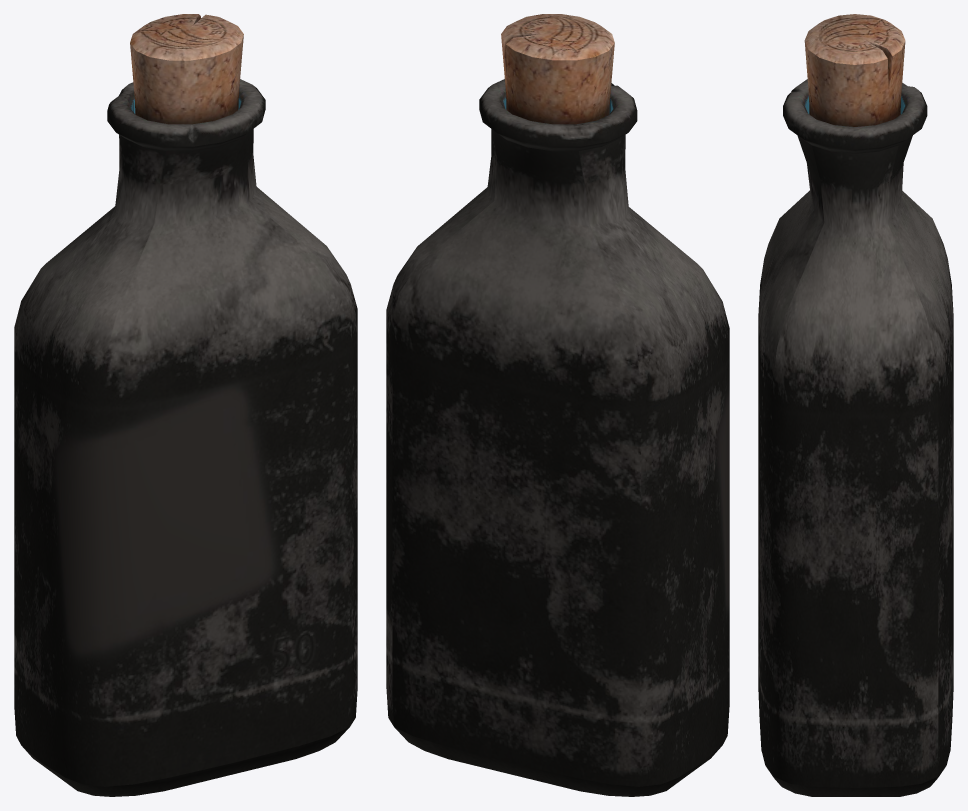
File: poison.fbx
3 renders of one model, left to right at view 1: azimuth 30°, elevation 25°; view 2: azimuth 150°, elevation 25°; view 3: azimuth 270°, elevation 25°, orthographic.
Parts seen in each view (by area): view 1: Bottle_LP_meshId1_name_Bottle_Poison_01_Bottle_Poison_02_alb, Cork_LP_meshId0_name_Bottle_Poison_01_Bottle_Poison_01_albed; view 2: Bottle_LP_meshId1_name_Bottle_Poison_01_Bottle_Poison_02_alb, Cork_LP_meshId0_name_Bottle_Poison_01_Bottle_Poison_01_albed; view 3: Bottle_LP_meshId1_name_Bottle_Poison_01_Bottle_Poison_02_alb, Cork_LP_meshId0_name_Bottle_Poison_01_Bottle_Poison_01_albed.
Boxes of the visible parts, bbox=[...] form: Bottle_LP_meshId1_name_Bottle_Poison_01_Bottle_Poison_02_alb: bbox=[14, 79, 357, 796]; Cork_LP_meshId0_name_Bottle_Poison_01_Bottle_Poison_01_albed: bbox=[130, 14, 243, 124]; Bottle_LP_meshId1_name_Bottle_Poison_01_Bottle_Poison_02_alb: bbox=[386, 79, 729, 796]; Cork_LP_meshId0_name_Bottle_Poison_01_Bottle_Poison_01_albed: bbox=[501, 14, 614, 124]; Bottle_LP_meshId1_name_Bottle_Poison_01_Bottle_Poison_02_alb: bbox=[758, 79, 953, 796]; Cork_LP_meshId0_name_Bottle_Poison_01_Bottle_Poison_01_albed: bbox=[804, 14, 905, 126].
Bounding box in the file's own units: 12.71 × 29.38 × 7.42.
3 materials, 3 textured.
